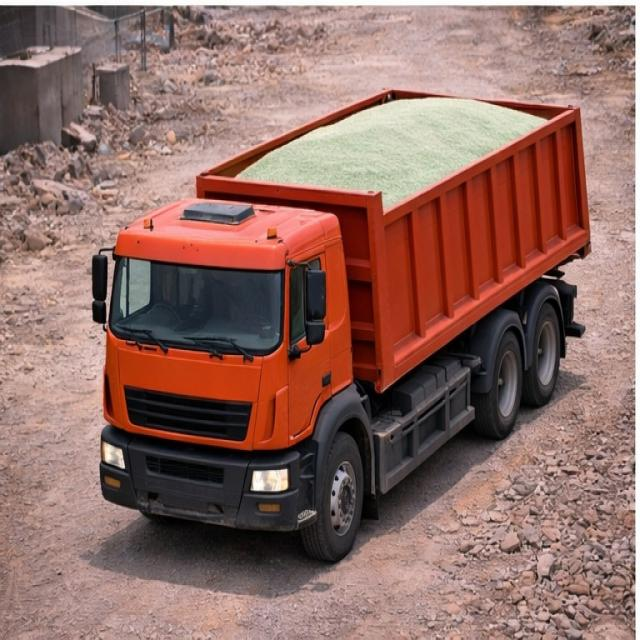trailer: (190, 89, 578, 198)
truck: (87, 73, 612, 562)
